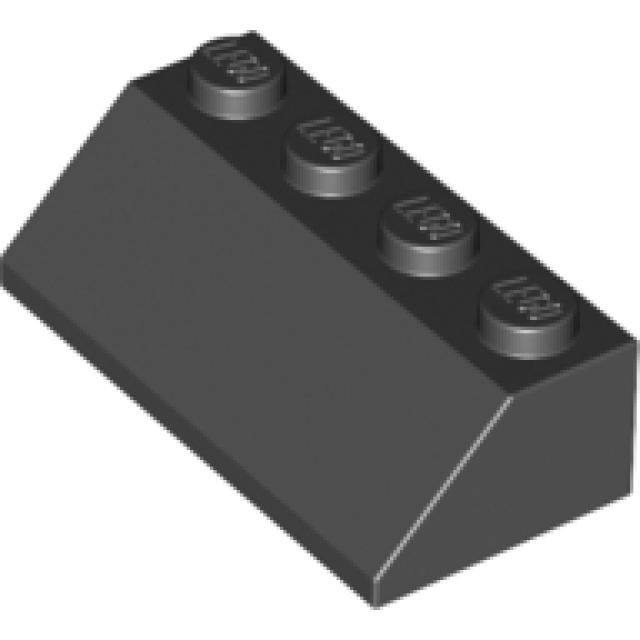Black_Large: (3, 30, 640, 610)
